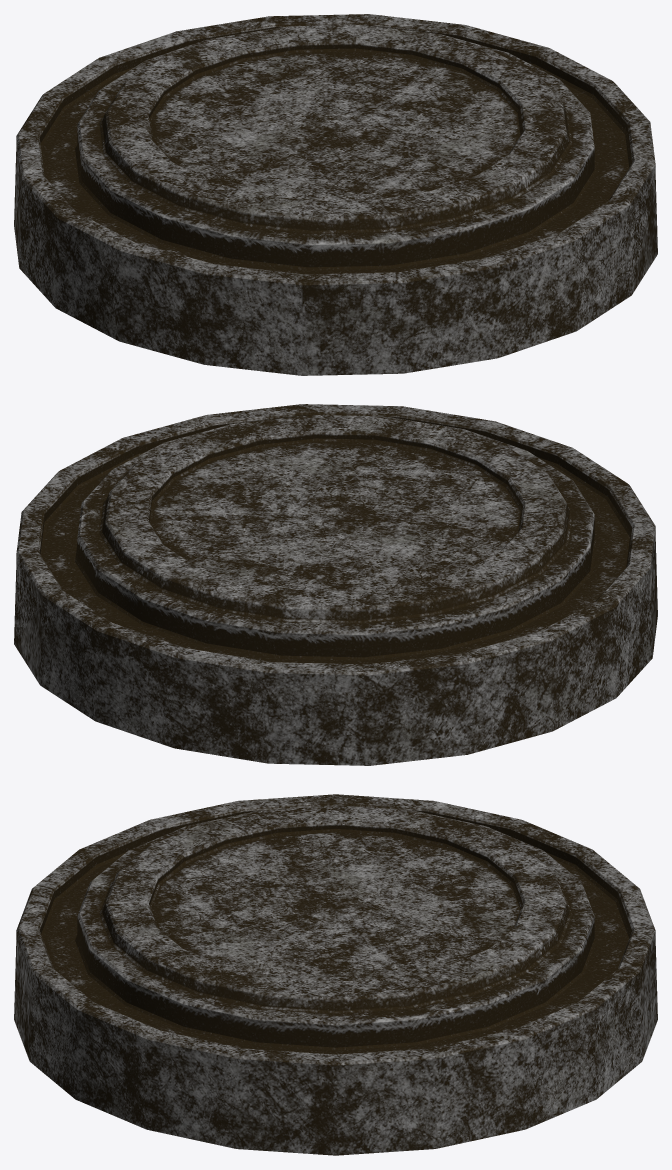
Rendered from base_altar.glb.
3 renders of one model, top to bottom at view 1: azimuth 30°, elevation 25°; view 2: azimuth 150°, elevation 25°; view 3: azimuth 270°, elevation 25°, orthographic.
Parts seen in each view (by area): view 1: altar; view 2: altar; view 3: altar.
Part boxes in pixels (x1,y1,x2,y2): altar: [14, 14, 657, 375]; altar: [14, 404, 657, 765]; altar: [14, 794, 657, 1155].
Size of the model in its own units: 5.87 by 1.19 by 5.87.
1 material, 1 textured.
